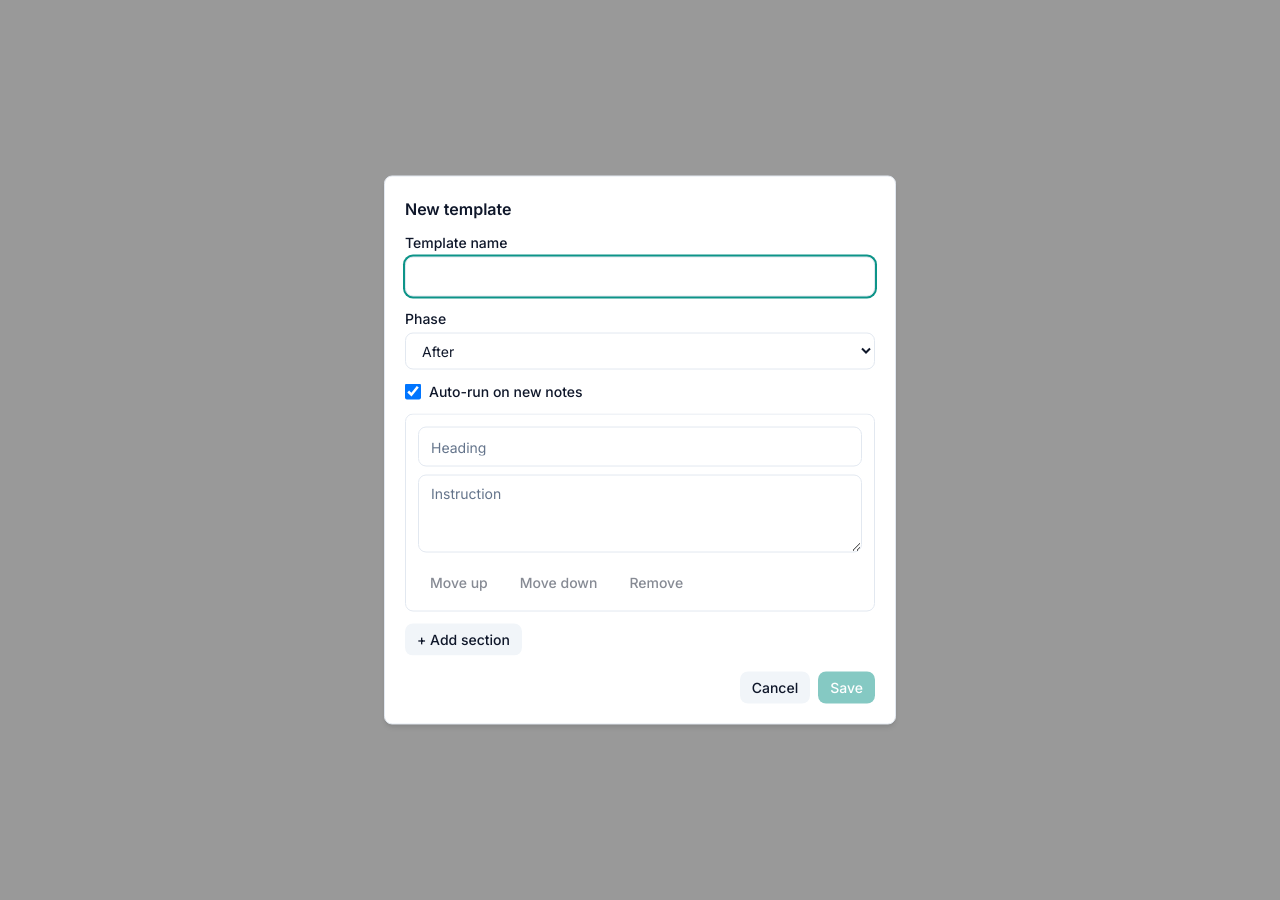
Test case: TemplateEditor › reorders sections with move down
In the field named "Section 1 heading": coordinates (640, 446) left=418, top=426, right=862, bottom=466, type "First"
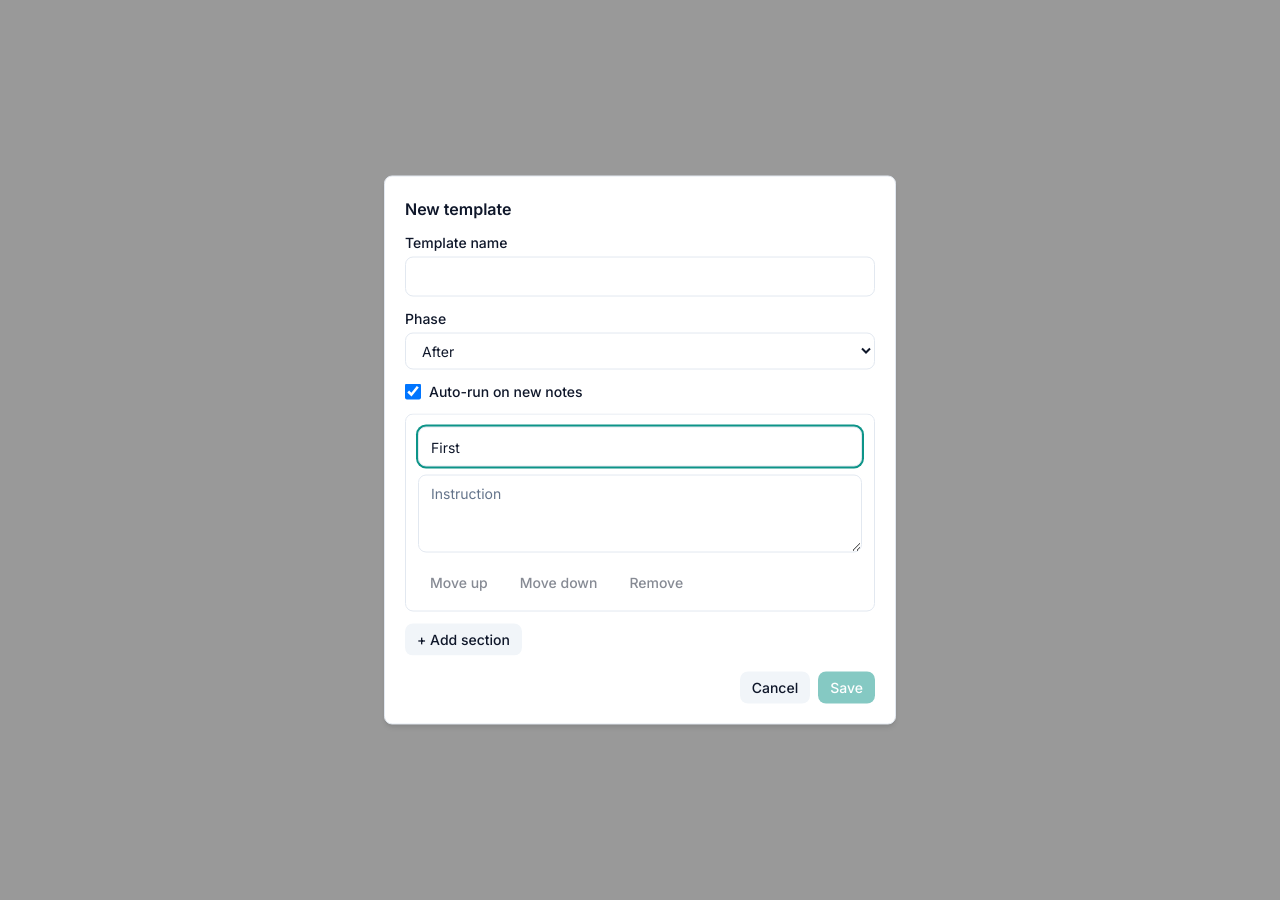
In the text box named "Section 1 instruction": coordinates (640, 514) left=418, top=474, right=862, bottom=552, type "a"
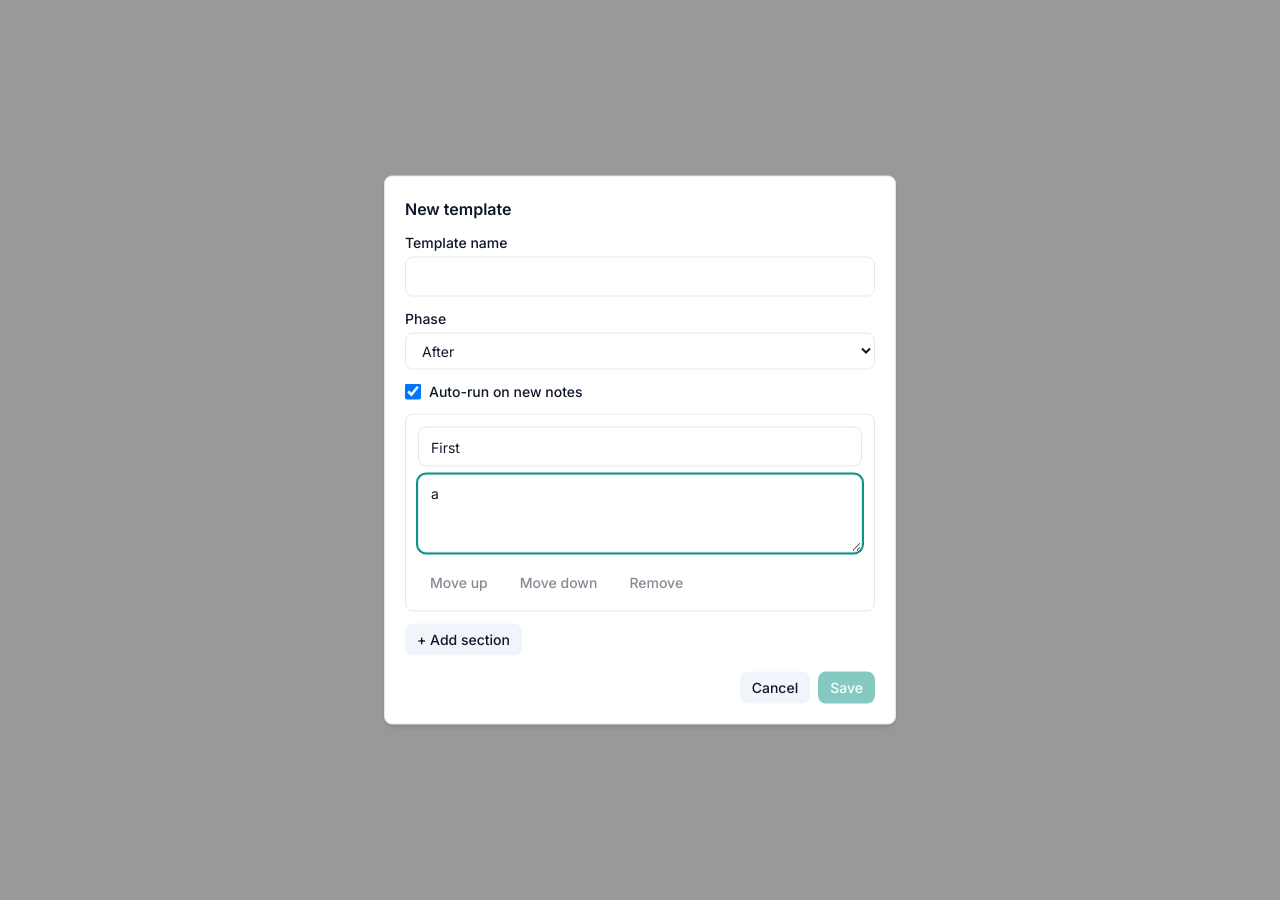
Click the button "+ Add section": coordinates (464, 640) left=405, top=624, right=522, bottom=656
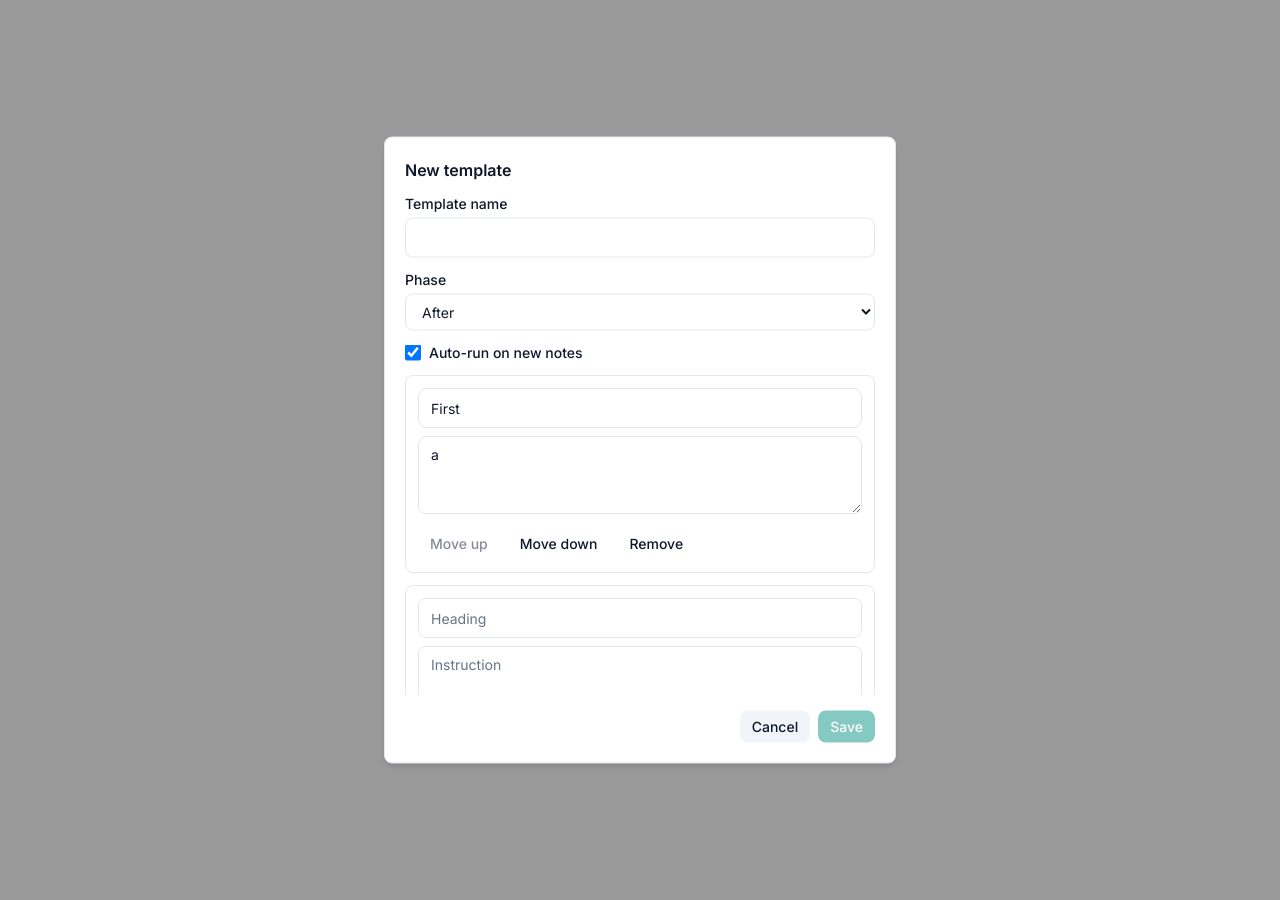
In the field named "Section 2 heading": coordinates (640, 618) left=418, top=598, right=862, bottom=638, type "Second"
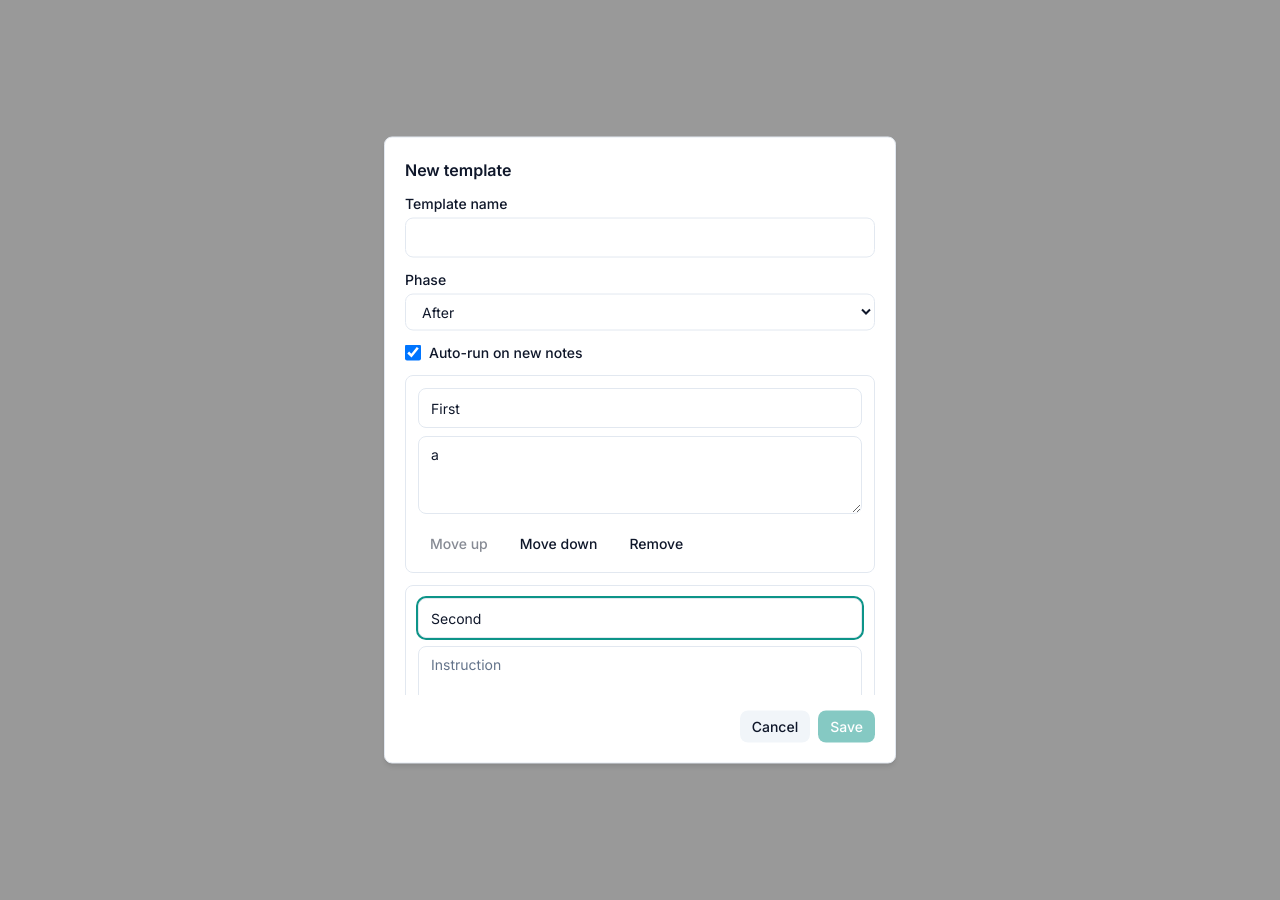
In the text box named "Section 2 instruction": coordinates (640, 684) left=418, top=646, right=862, bottom=724, type "b"
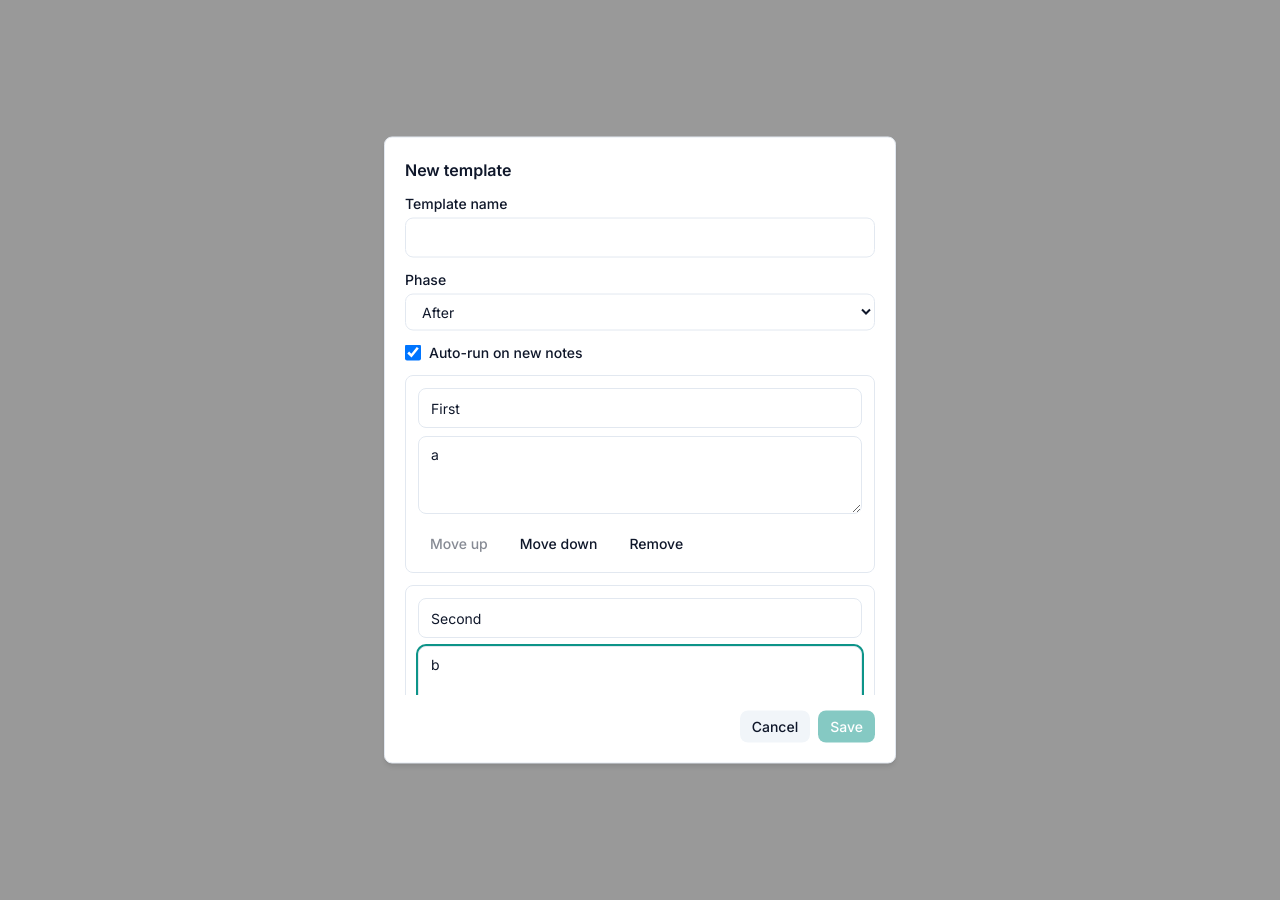
Click the button "Move down": coordinates (559, 544) left=508, top=528, right=609, bottom=560
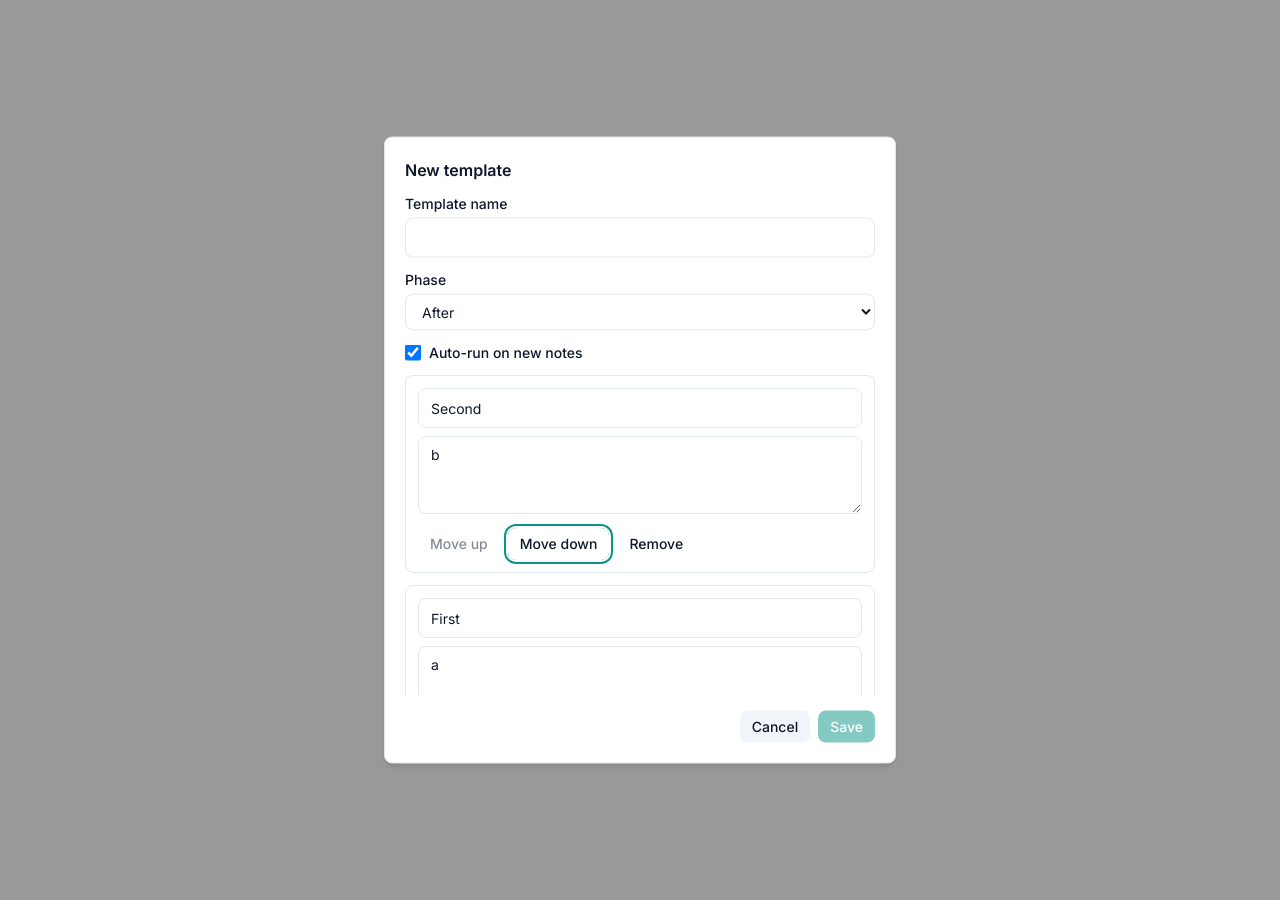
Result: the field named "Section 1 heading" holds "Second" at left=418, top=388, right=862, bottom=428
Result: the field named "Section 2 heading" holds "First" at left=418, top=598, right=862, bottom=638
